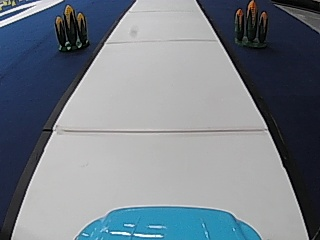corn: (231, 0, 269, 48), (53, 3, 90, 51)
